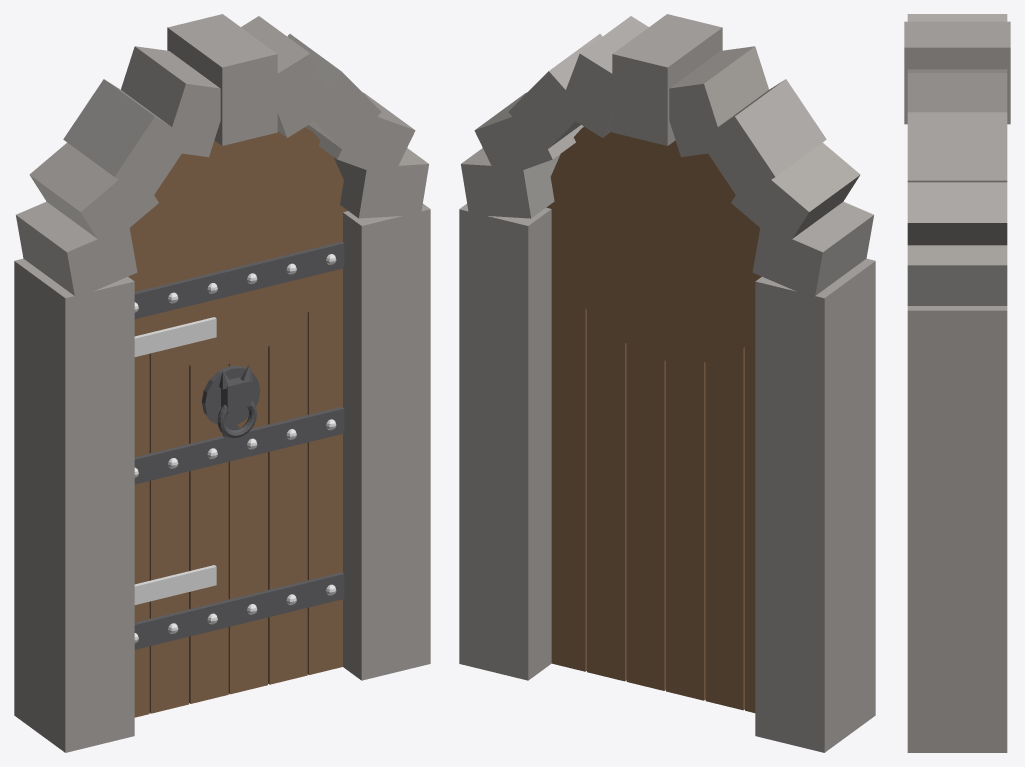
Rendered from MedievalDoor_Lynx.fbx.
3 renders of one model, left to right at view 1: azimuth 30°, elevation 25°; view 2: azimuth 150°, elevation 25°; view 3: azimuth 270°, elevation 25°, orthographic. The views are drawn at different scales.
Parts seen in each view (by area): view 1: Frame_StoneArch, Door_TopArch, Door_Plank_4, Door_Plank_1, Door_Plank_5, Door_Plank_3, Door_Plank_2, Iron_Brace_0.4, Iron_Brace_2.0, Door_Plank_0, Iron_Brace_1.2, Cube (+3 smaller); view 2: Frame_StoneArch, Door_TopArch, Door_Plank_1, Door_Plank_4, Door_Plank_2, Door_Plank_5, Door_Plank_3, Door_Plank_0; view 3: Frame_StoneArch.
Part boxes in pixels (<box>): Frame_StoneArch: <box>14,14,430,752</box>; Door_TopArch: <box>128,126,347,366</box>; Door_Plank_4: <box>268,221,307,684</box>; Door_Plank_1: <box>149,250,188,713</box>; Door_Plank_5: <box>307,212,342,674</box>; Door_Plank_3: <box>228,230,267,694</box>; Door_Plank_2: <box>189,240,228,703</box>; Iron_Brace_0.4: <box>134,572,344,649</box>; Iron_Brace_2.0: <box>134,241,344,318</box>; Door_Plank_0: <box>128,260,149,717</box>; Iron_Brace_1.2: <box>134,407,344,484</box>; Cube: <box>134,565,216,604</box>; Frame_StoneArch: <box>459,14,875,752</box>; Door_TopArch: <box>546,126,760,363</box>; Door_Plank_1: <box>705,246,744,710</box>; Door_Plank_4: <box>587,222,626,681</box>; Door_Plank_2: <box>666,237,705,700</box>; Door_Plank_5: <box>551,210,586,671</box>; Door_Plank_3: <box>626,229,665,690</box>; Door_Plank_0: <box>745,256,761,712</box>; Frame_StoneArch: <box>904,14,1010,752</box>.
Size of the model in its own units: 1.85 by 3.14 by 0.48.
